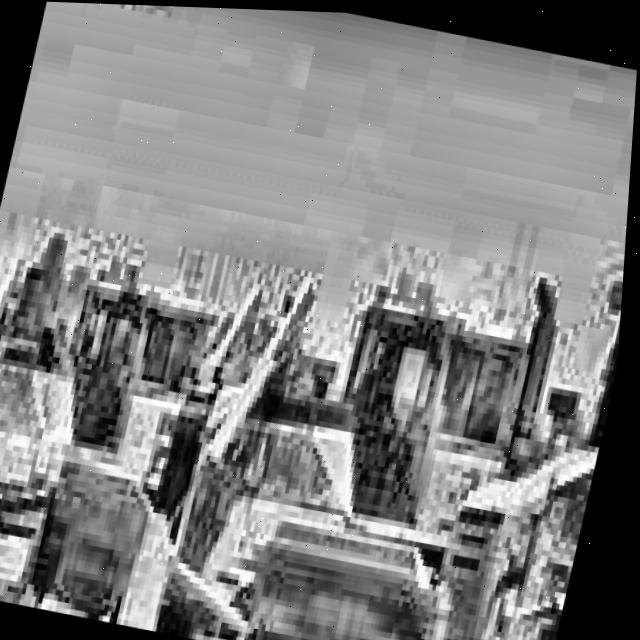buldozerpayloadergrader: (242, 187, 631, 640), (18, 244, 375, 640), (0, 253, 124, 610)
